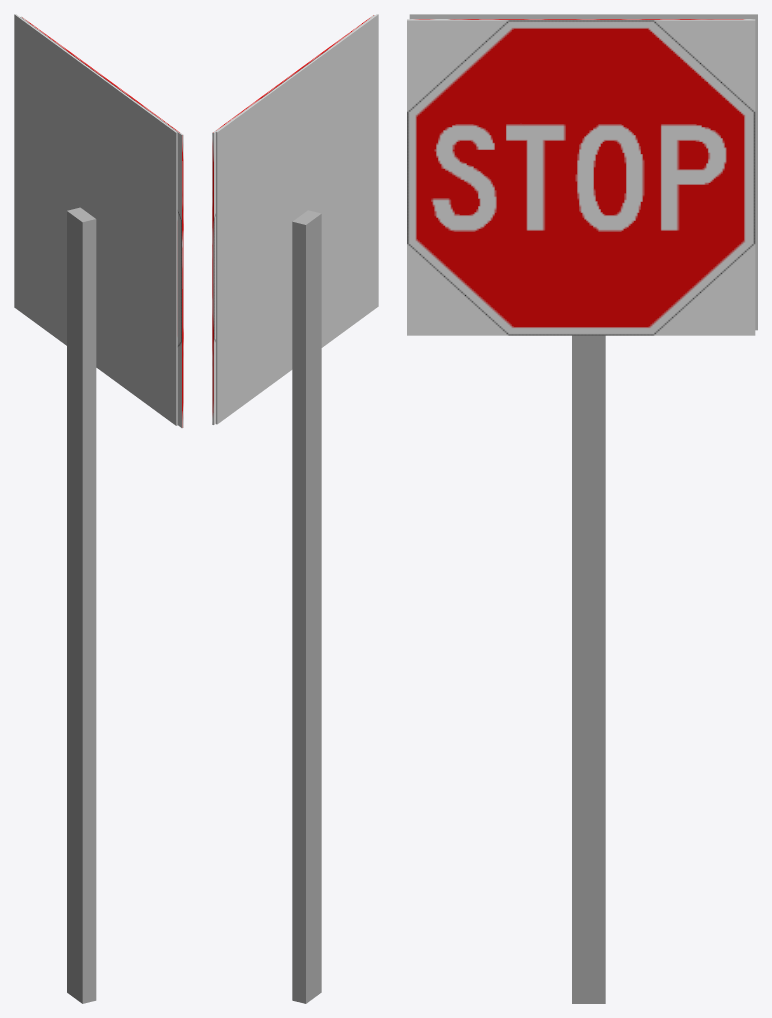
The model's file is stop.dae.
3 views of the same model, side by side, from view 1: azimuth 30°, elevation 25°; view 2: azimuth 150°, elevation 25°; view 3: azimuth 270°, elevation 25° (orthographic). The views are drawn at different scales.
Parts seen in each view (by area): view 1: Cube_002, Cube_001, Cube; view 2: Cube_002, Cube_001, Cube; view 3: Cube, Cube_001, Cube_002.
Part boxes in pixels (x1,y1,x2,y2): Cube_002: [14, 14, 177, 425]; Cube_001: [67, 207, 96, 1003]; Cube: [20, 16, 183, 428]; Cube_002: [216, 14, 378, 424]; Cube_001: [292, 210, 321, 1003]; Cube: [212, 14, 374, 424]; Cube: [407, 19, 755, 335]; Cube_001: [572, 335, 605, 1003]; Cube_002: [409, 14, 757, 330].
Size of the model in its own units: 0.0799 by 0.9209 by 2.88.
